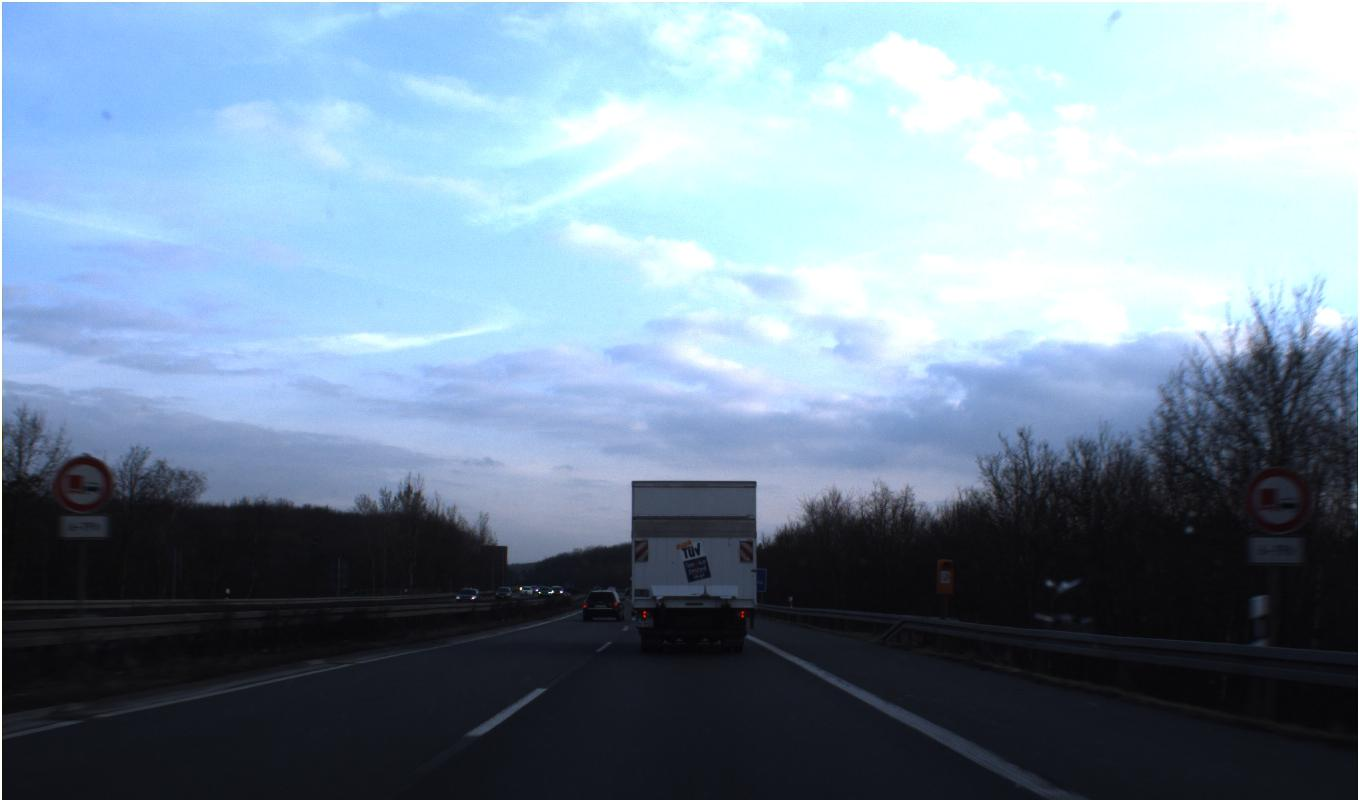prohibitory: (1244, 465, 1312, 534), (53, 455, 114, 514)
